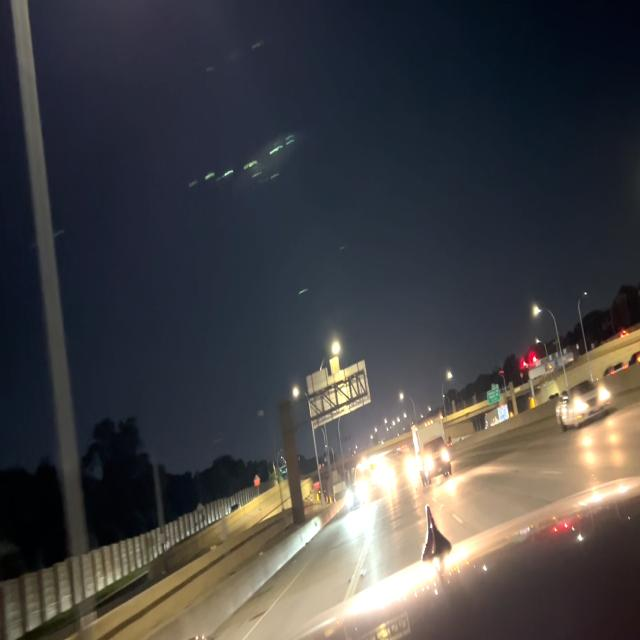back-of-sign: (305, 356, 372, 431)
